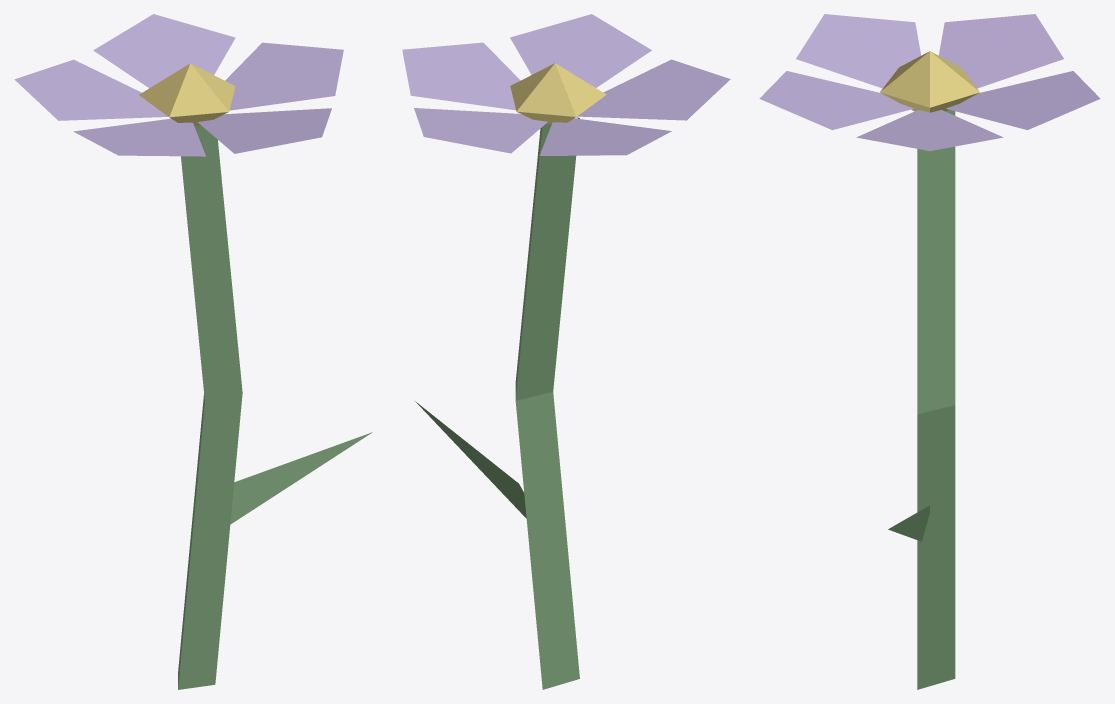
File: wild_flower_3.gltf
3 renders of one model, left to right at view 1: azimuth 30°, elevation 25°; view 2: azimuth 150°, elevation 25°; view 3: azimuth 270°, elevation 25°, orthographic.
Visible parts, largest first — view 1: wild_flower_3; view 2: wild_flower_3; view 3: wild_flower_3.
Part boxes in pixels (<box>): wild_flower_3: <box>14,14,372,689</box>; wild_flower_3: <box>402,14,730,689</box>; wild_flower_3: <box>759,14,1100,689</box>.
Size of the model in its own units: 0.1591 by 0.329 by 0.1617.
